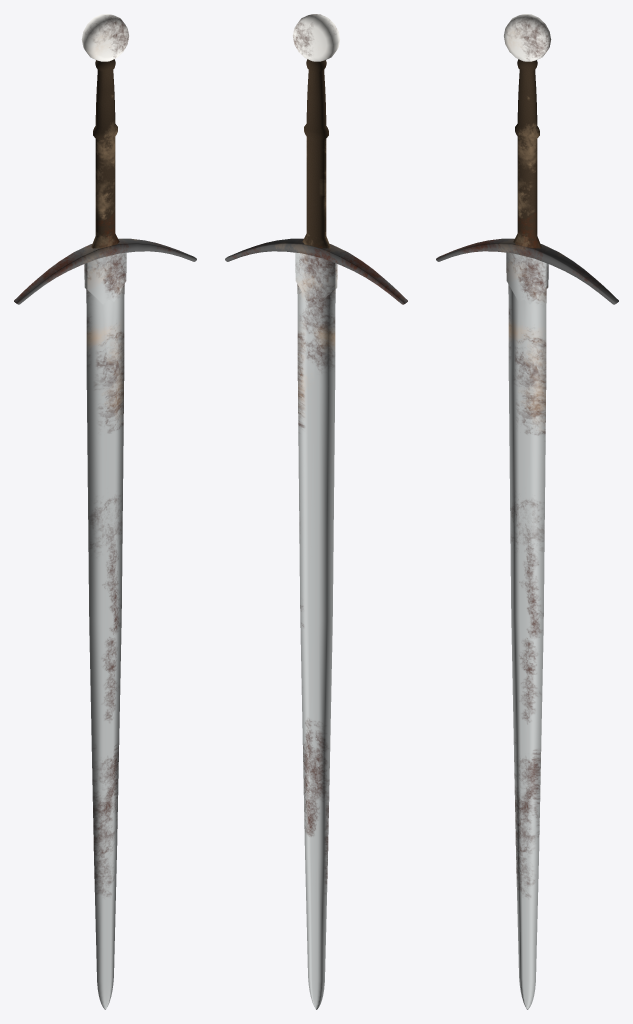
Rendered from sword.obj.
The picture shows the model from 3 angles, left to right: view 1: azimuth 30°, elevation 25°; view 2: azimuth 150°, elevation 25°; view 3: azimuth 330°, elevation 25°; orthographic projection.
Parts seen in each view (by area): view 1: Plane003; view 2: Plane003; view 3: Plane003.
Part boxes in pixels (x1,y1,x2,y2): Plane003: [14, 14, 196, 1009]; Plane003: [225, 14, 407, 1009]; Plane003: [436, 14, 618, 1009].
Size of the model in its own units: 110 by 582 by 11.95.
